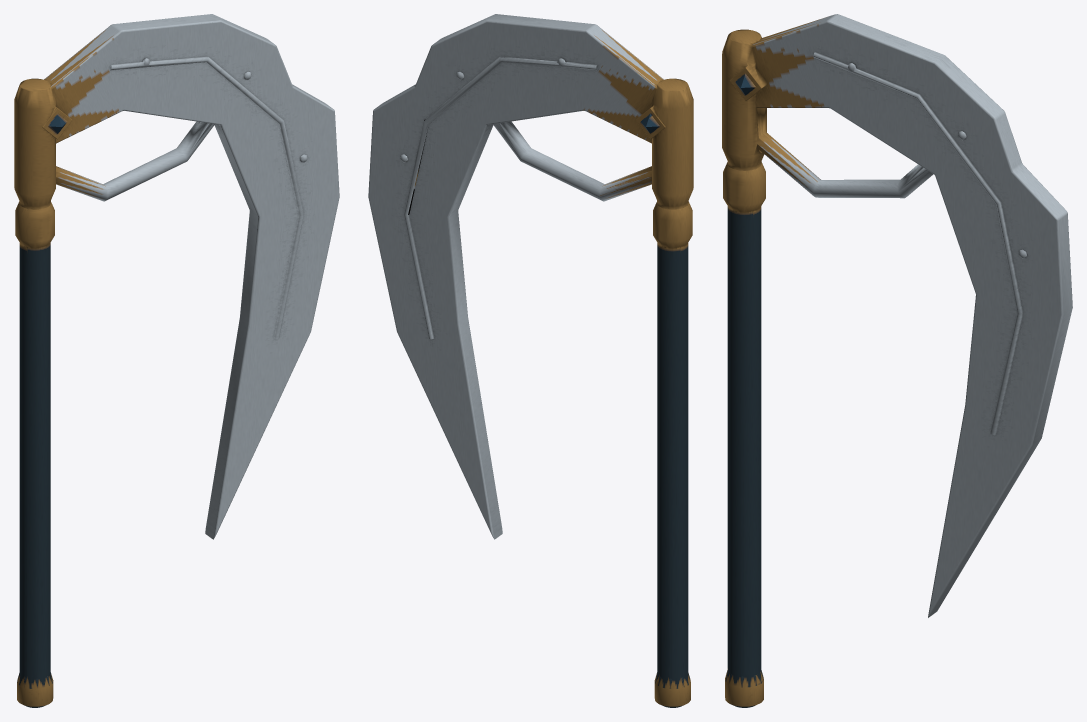
The model's file is reaper-crafted.glb.
3 renders of one model, left to right at view 1: azimuth 30°, elevation 25°; view 2: azimuth 150°, elevation 25°; view 3: azimuth 330°, elevation 25°, orthographic. The views are drawn at different scales.
Visible parts, largest first — view 1: reaper-crafted; view 2: reaper-crafted; view 3: reaper-crafted.
Part boxes in pixels (<box>): reaper-crafted: <box>14,14,339,707</box>; reaper-crafted: <box>368,14,693,707</box>; reaper-crafted: <box>722,14,1072,707</box>.
Size of the model in its own units: 0.544 by 1.07 by 0.09.
1 material, 1 textured.
